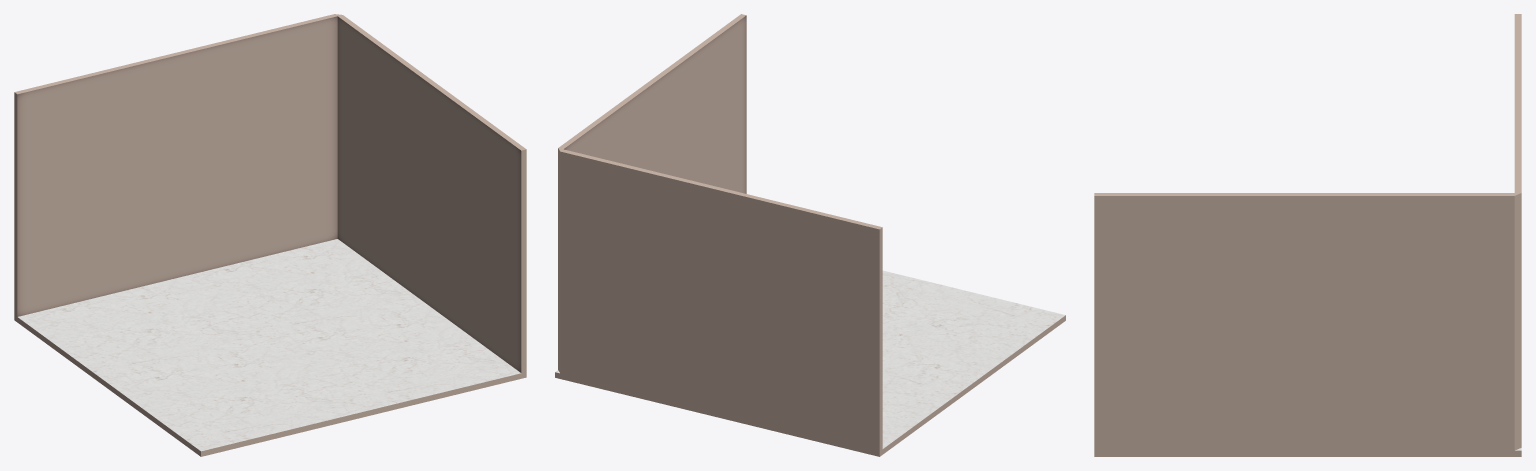
The model's file is sofa_room.glb.
The picture shows the model from 3 angles, left to right: view 1: azimuth 30°, elevation 25°; view 2: azimuth 150°, elevation 25°; view 3: azimuth 270°, elevation 25°; orthographic projection. The views are drawn at different scales.
Visible parts, largest first — view 1: Room; view 2: Room; view 3: Room.
Boxes of the visible parts, bbox=[...] form: Room: bbox=[14, 14, 526, 456]; Room: bbox=[555, 14, 1065, 456]; Room: bbox=[1094, 14, 1521, 456].
Size of the model in its own units: 3.06 by 2.05 by 3.04.
Materials: 2 (2 with a texture image).
